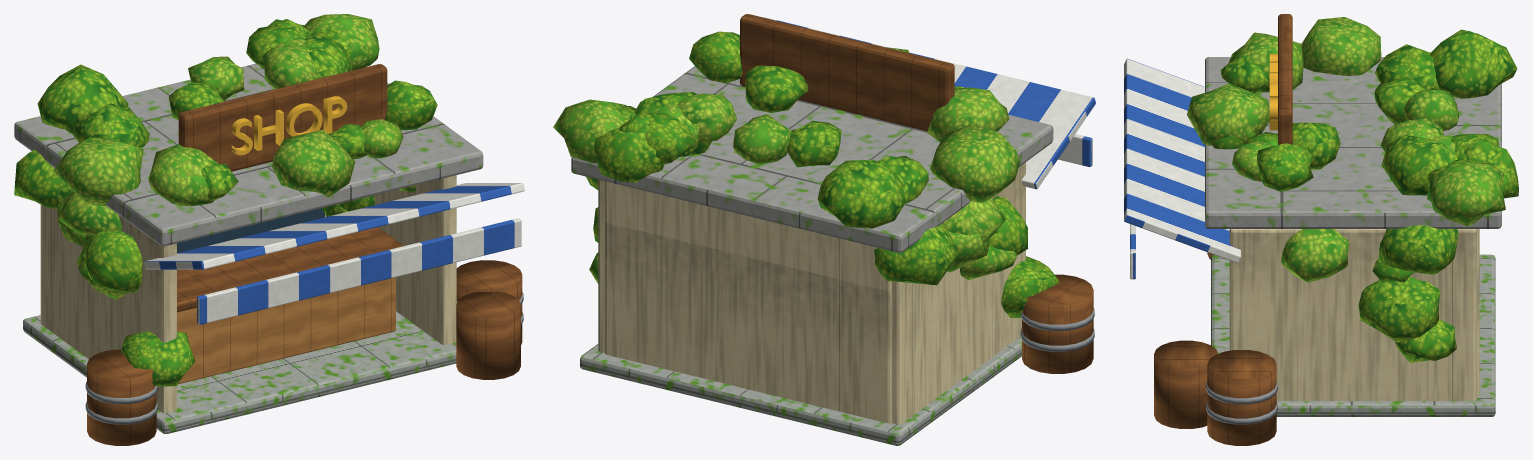
File: shop-awning.glb
3 renders of one model, left to right at view 1: azimuth 30°, elevation 25°; view 2: azimuth 150°, elevation 25°; view 3: azimuth 270°, elevation 25°, orthographic. The views are drawn at different scales.
Visible parts, largest first — view 1: shop-awning; view 2: shop-awning; view 3: shop-awning.
Boxes of the visible parts, left/top/right/bottom form: shop-awning: left=14, top=14, right=524, bottom=445; shop-awning: left=553, top=14, right=1095, bottom=445; shop-awning: left=1124, top=14, right=1518, bottom=445.
Bounding box in the file's own units: 3.97 × 2.5 × 3.19.
13 materials, 13 textured.
